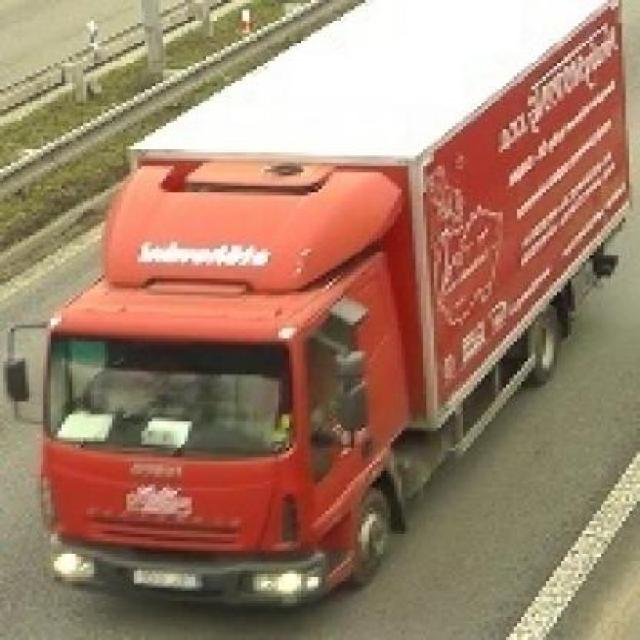truck: (1, 1, 636, 604)
